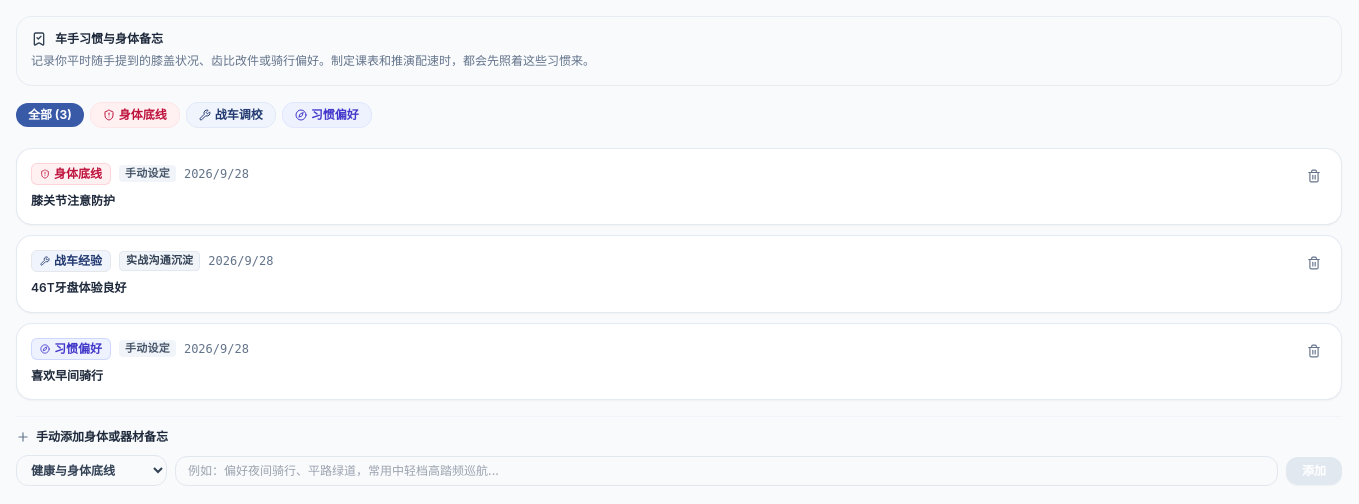
Scenario: MemoriesTab 语义记忆列表 › 添加中显示 loading 文案且按钮禁用
Type "新记忆" into the field with placeholder "例如：偏好夜间骑行、平路绿道，常用中轻档高踏频巡航..." at coordinates (726, 470), box [175,456,1278,486]
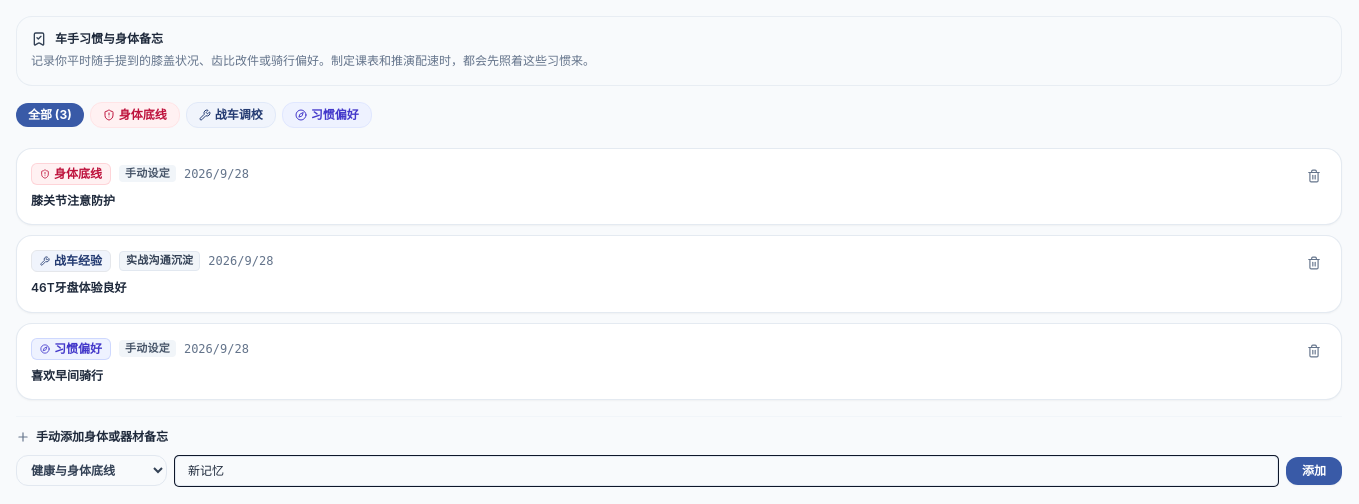
Click the button "添加" at coordinates (1314, 470), box [1286,456,1342,484]
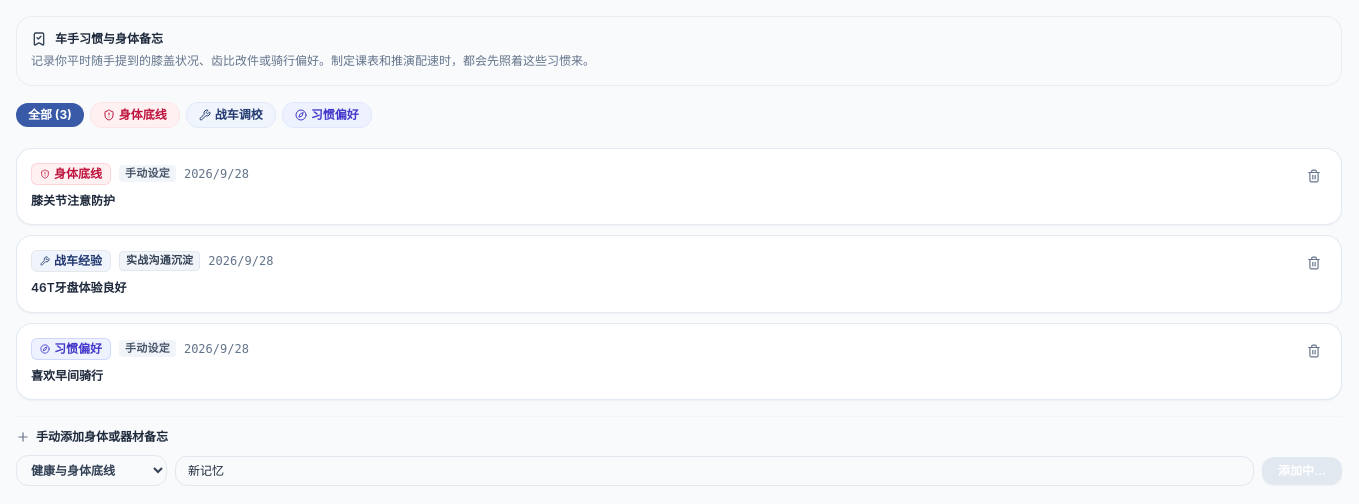
Now the button "添加中..." is disabled, box [1262,456,1342,484]
